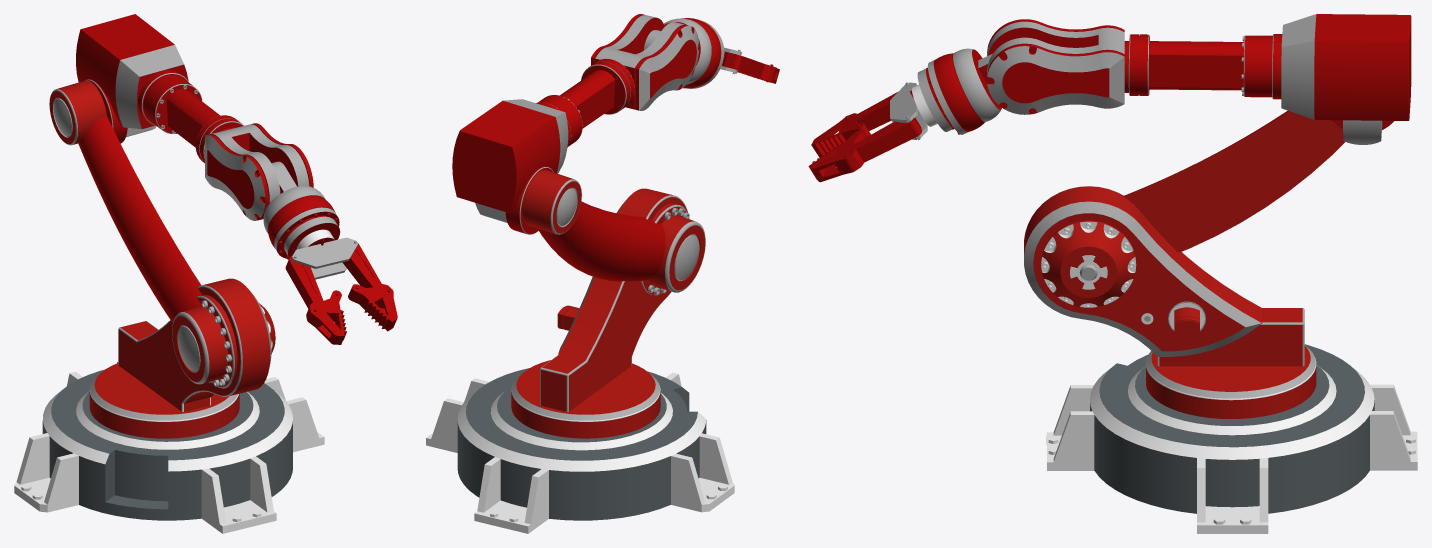
File: RobotArm.glb
3 views of the same model, side by side, from view 1: azimuth 30°, elevation 25°; view 2: azimuth 150°, elevation 25°; view 3: azimuth 270°, elevation 25° (orthographic). The views are drawn at different scales.
Parts seen in each view (by area): view 1: Solid1, Solid1.002, Solid1.001, Solid1.003, Solid1.004, Solid1.005, Solid1.006, Solid1.007, Solid1.008; view 2: Solid1, Solid1.001, Solid1.003, Solid1.002, Solid1.004, Solid1.005, Solid1.007; view 3: Solid1, Solid1.001, Solid1.003, Solid1.002, Solid1.004, Solid1.005, Solid1.008, Solid1.006, Solid1.007.
Boxes of the visible parts, <box> form: Solid1: <box>14,361,324,533</box>; Solid1.002: <box>49,80,237,388</box>; Solid1.001: <box>89,278,275,438</box>; Solid1.003: <box>76,14,244,163</box>; Solid1.004: <box>205,123,313,220</box>; Solid1.005: <box>263,161,339,259</box>; Solid1.006: <box>284,216,357,279</box>; Solid1.007: <box>285,256,346,344</box>; Solid1.008: <box>342,243,397,331</box>; Solid1: <box>426,368,734,533</box>; Solid1.001: <box>511,188,687,438</box>; Solid1.003: <box>452,58,634,234</box>; Solid1.002: <box>522,170,705,295</box>; Solid1.004: <box>591,14,699,110</box>; Solid1.005: <box>644,18,723,88</box>; Solid1.007: <box>722,52,779,83</box>; Solid1: <box>1046,344,1417,533</box>; Solid1.001: <box>1024,186,1316,418</box>; Solid1.003: <box>1128,14,1411,144</box>; Solid1.002: <box>1123,110,1345,252</box>; Solid1.004: <box>987,19,1129,114</box>; Solid1.005: <box>926,48,1001,134</box>; Solid1.008: <box>808,117,921,182</box>; Solid1.006: <box>890,68,952,139</box>; Solid1.007: <box>811,92,897,157</box>.
Size of the model in its own units: 0.3907 by 0.5231 by 0.6419.
